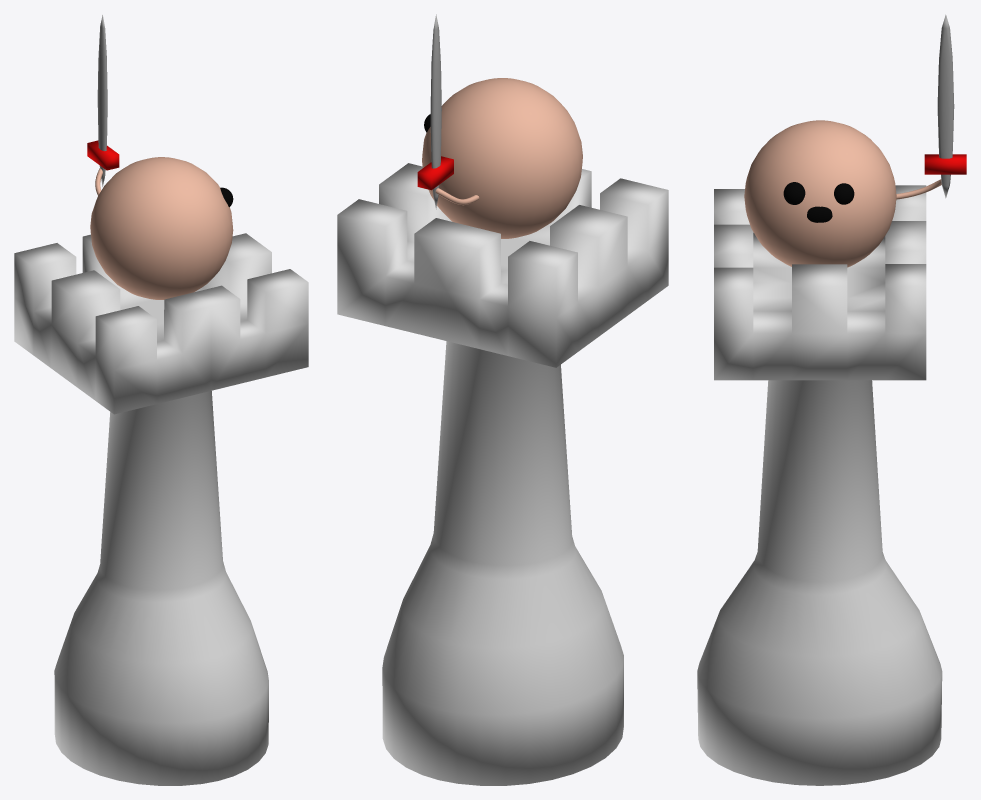
File: WhiteRook.fbx
3 renders of one model, left to right at view 1: azimuth 30°, elevation 25°; view 2: azimuth 150°, elevation 25°; view 3: azimuth 270°, elevation 25°, orthographic. The views are drawn at different scales.
Parts seen in each view (by area): view 1: WhiteRook; view 2: WhiteRook; view 3: WhiteRook.
Part boxes in pixels (x1=…): WhiteRook: x1=14, y1=15, x2=308, y2=785; WhiteRook: x1=337, y1=14, x2=668, y2=785; WhiteRook: x1=697, y1=14, x2=966, y2=785.
Size of the model in its own units: 86.18 by 289 by 97.24.
